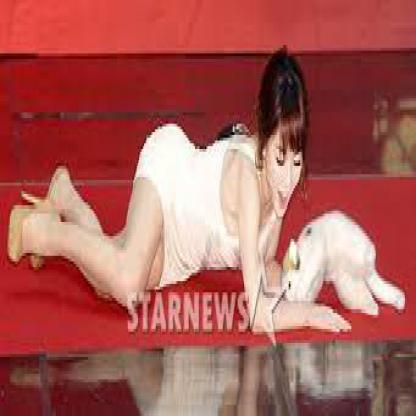Fall_Down: (5, 47, 354, 336)
